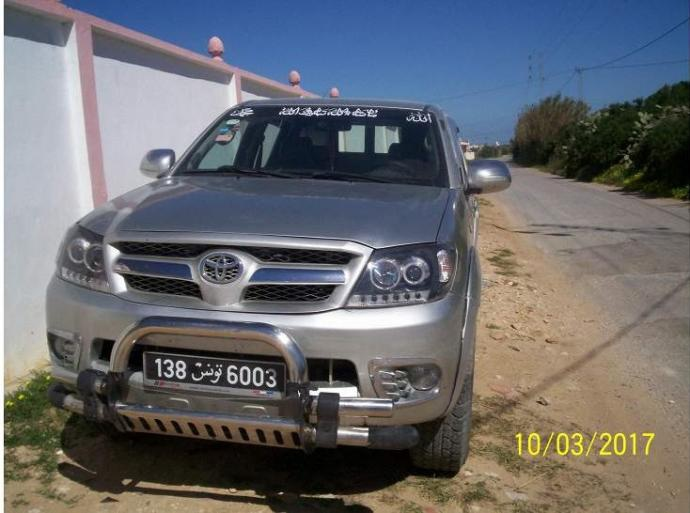LP: (141, 350, 289, 400)
